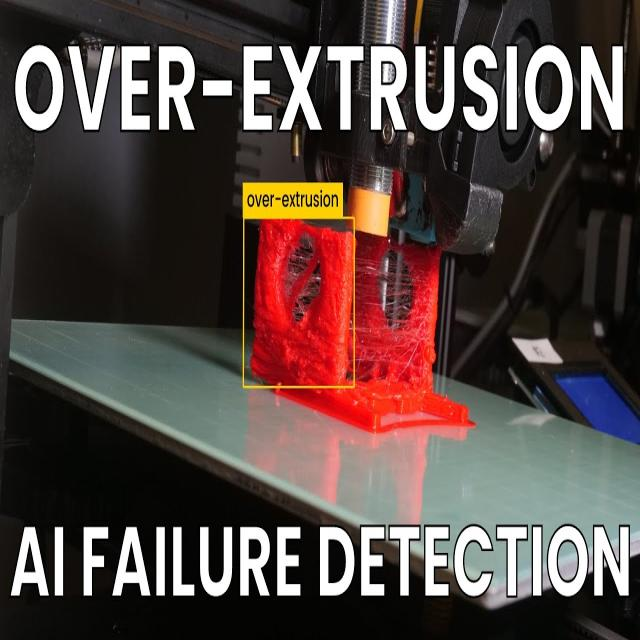Stringing: (380, 267, 410, 319)
